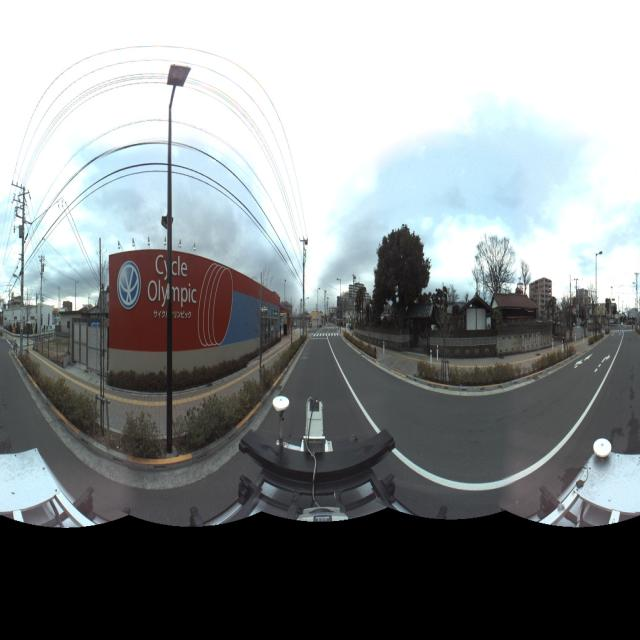b_1: (5, 292, 58, 345), (324, 274, 370, 334), (529, 274, 556, 347), (461, 291, 494, 346)
b_2: (396, 293, 439, 356)
